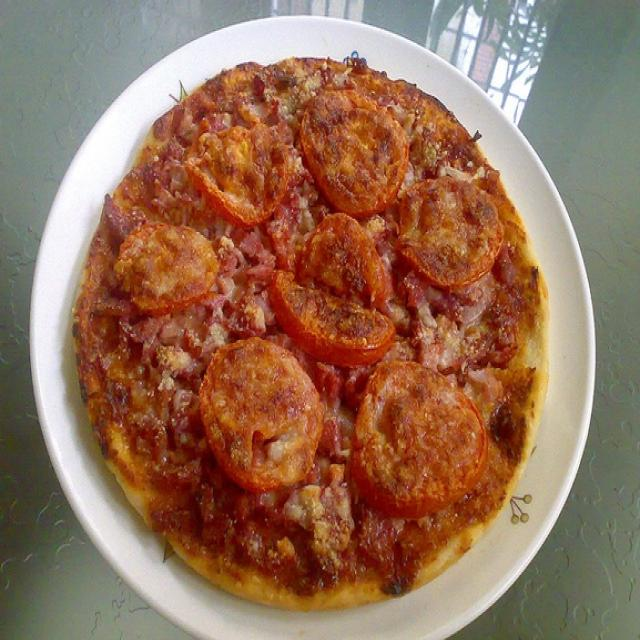炸货点心: (33, 18, 596, 615)
熟制海鲜: (33, 18, 596, 615)
